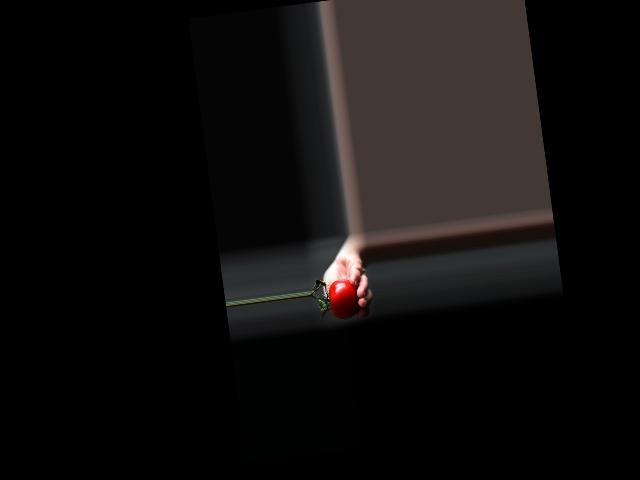tomato: (326, 277, 362, 320)
